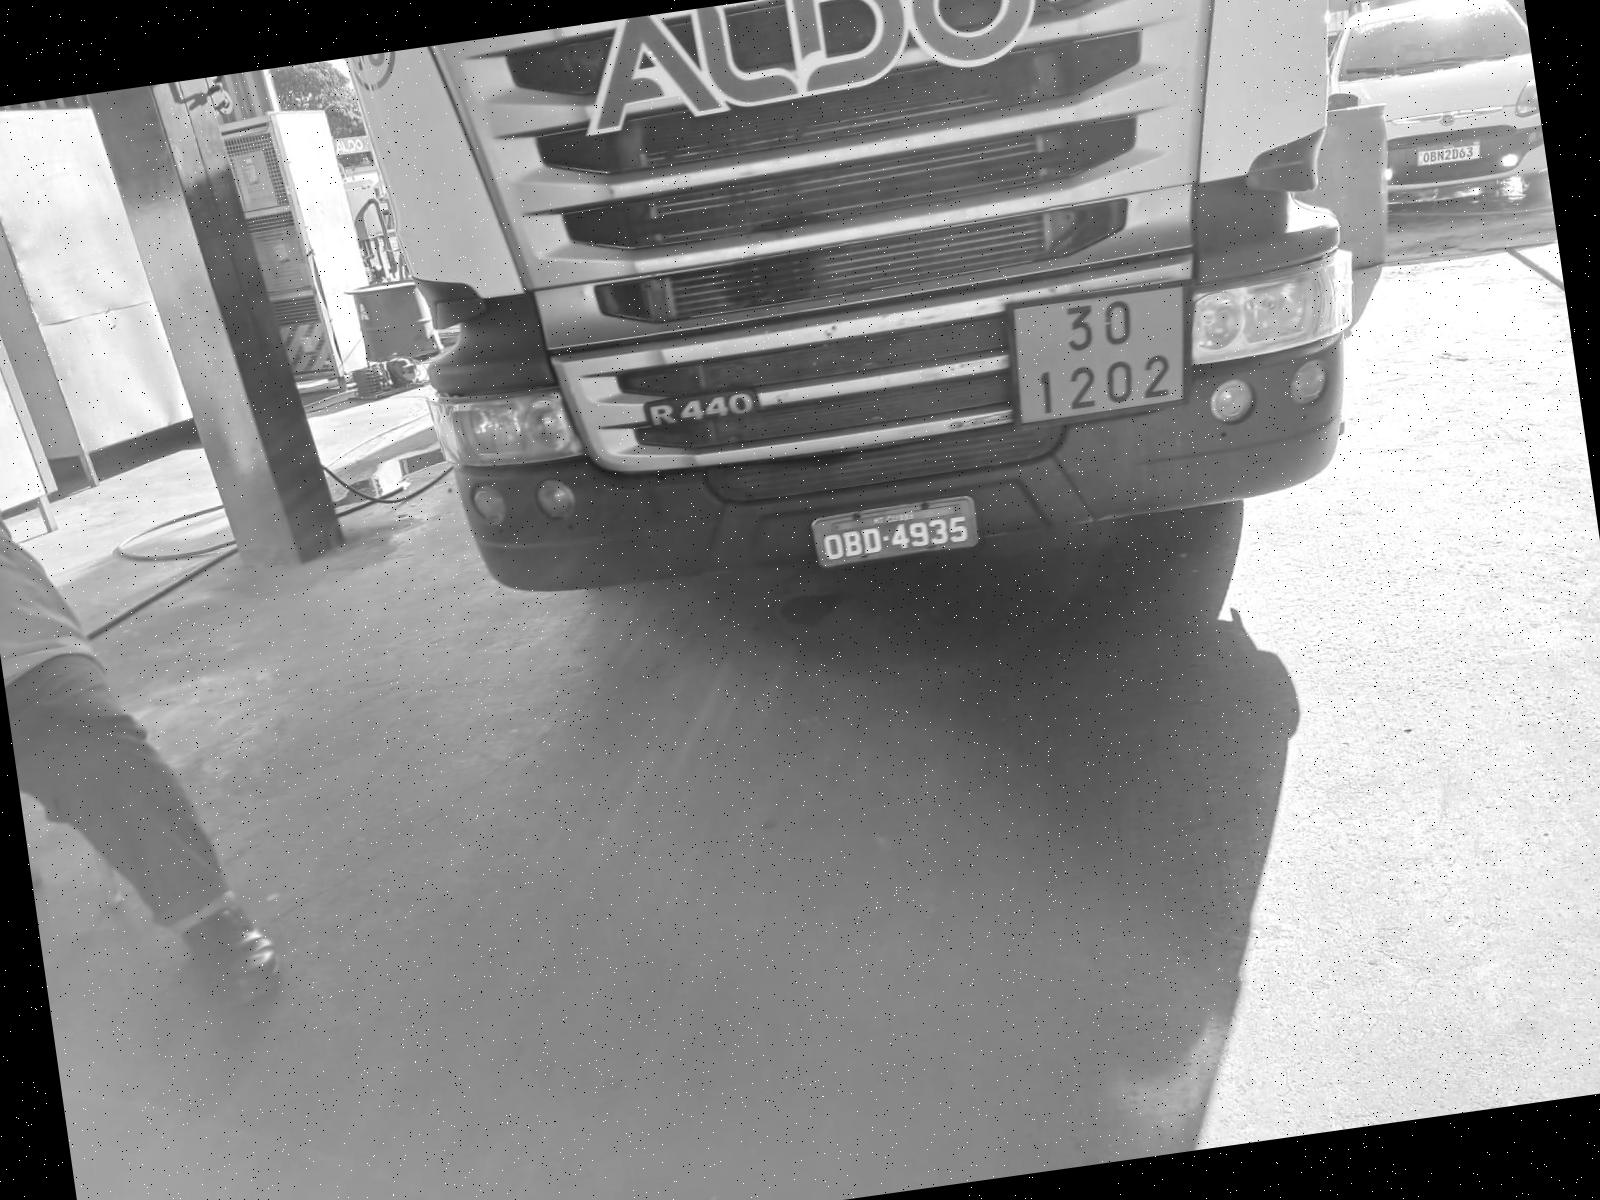placa_antiga: (812, 497, 978, 567)
